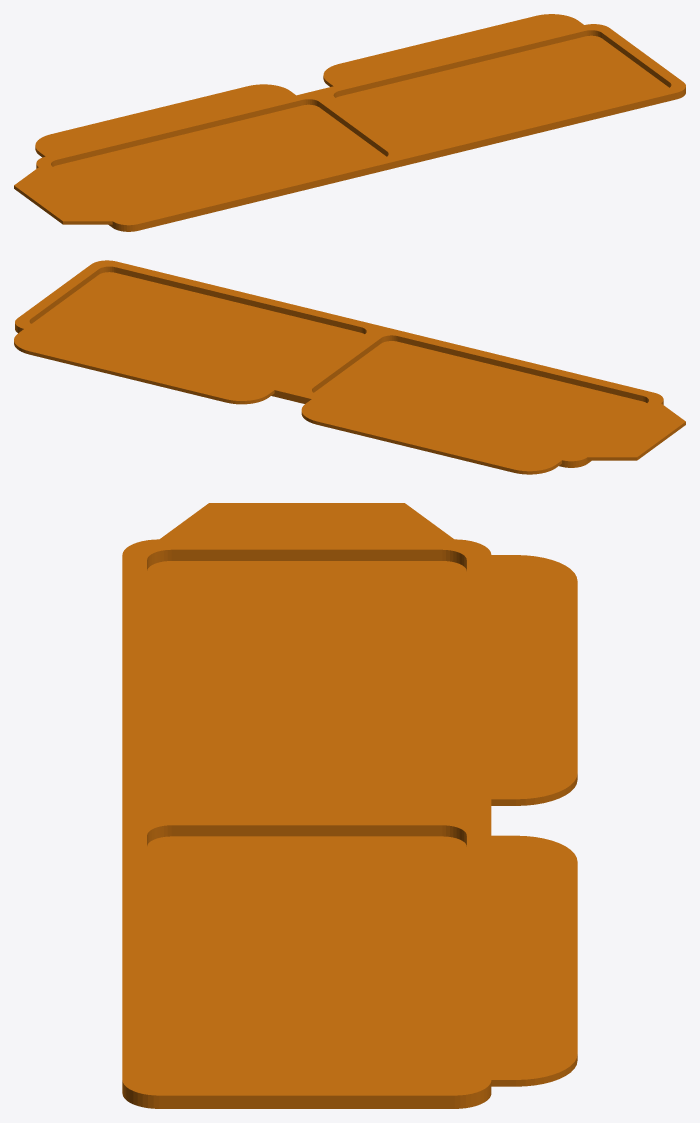
Rendered from cardsContainer.fbx.
The picture shows the model from 3 angles, top to bottom: view 1: azimuth 30°, elevation 25°; view 2: azimuth 150°, elevation 25°; view 3: azimuth 270°, elevation 25°; orthographic projection. The views are drawn at different scales.
Parts seen in each view (by area): view 1: cardsContainer; view 2: cardsContainer; view 3: cardsContainer.
Part boxes in pixels (left/top/right/bottom): cardsContainer: left=14, top=14, right=685, bottom=231; cardsContainer: left=14, top=260, right=685, bottom=474; cardsContainer: left=122, top=503, right=577, bottom=1108.
Size of the model in its own units: 57000 by 600 by 18500.
